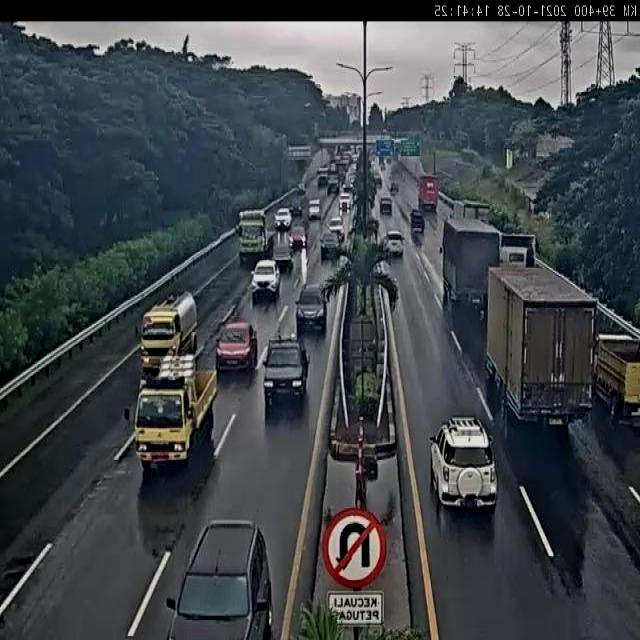Car: (163, 519, 273, 638), (428, 417, 498, 516), (262, 336, 310, 413), (215, 320, 258, 373), (295, 283, 327, 333), (251, 257, 282, 298), (320, 230, 341, 260), (272, 240, 293, 270), (384, 231, 404, 258), (289, 225, 307, 251), (274, 208, 292, 231), (328, 216, 345, 240), (339, 191, 352, 213), (308, 199, 321, 220), (380, 196, 392, 214), (327, 178, 339, 195), (290, 204, 302, 218), (390, 182, 399, 194)
Truck: (482, 255, 598, 431), (135, 356, 219, 471), (441, 216, 500, 320), (140, 290, 198, 378), (236, 208, 272, 266), (500, 233, 536, 268), (418, 174, 440, 212), (462, 200, 491, 221), (410, 209, 424, 235), (335, 156, 349, 181), (317, 170, 328, 188), (328, 161, 338, 175)
